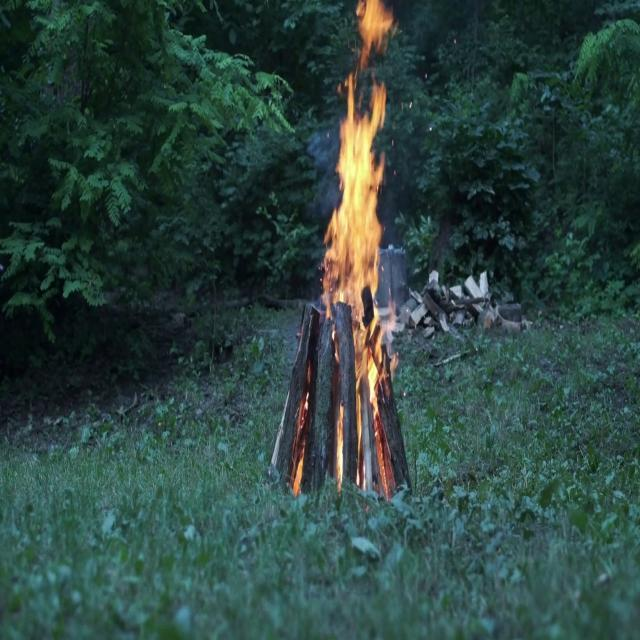Fire: (316, 0, 412, 469)
